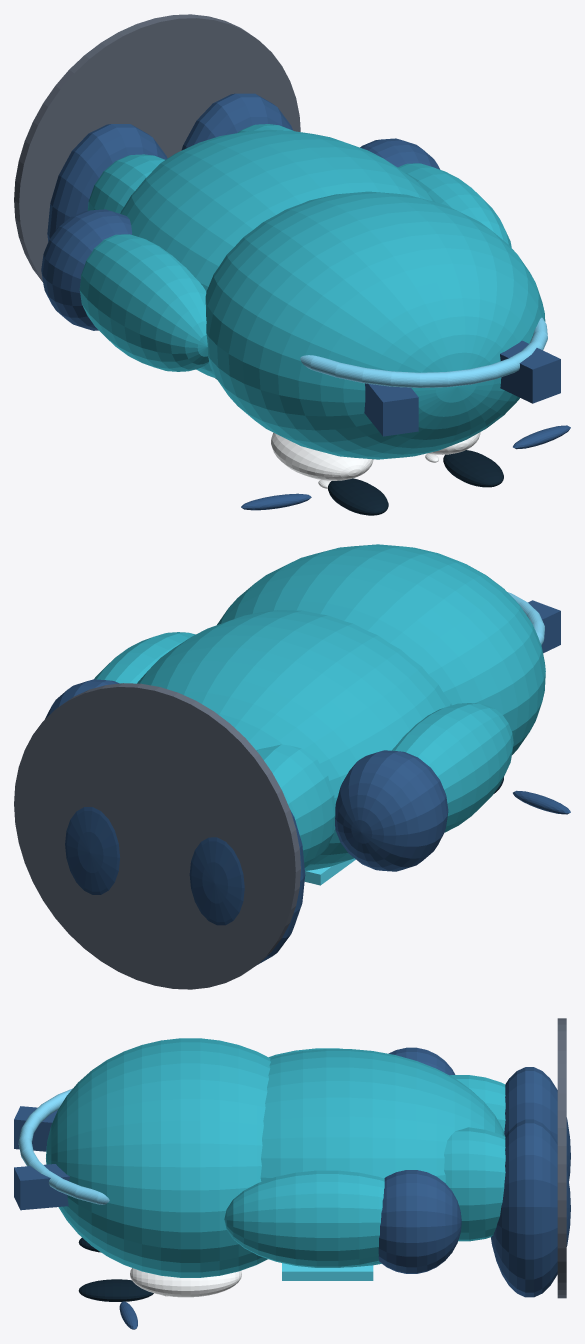
File: luma_reaction_curious.glb
3 renders of one model, top to bottom at view 1: azimuth 30°, elevation 25°; view 2: azimuth 150°, elevation 25°; view 3: azimuth 270°, elevation 25°, orthographic. The views are drawn at different scales.
Parts seen in each view (by area): view 1: CHR_Head, CHR_DisplayBase, CHR_Torso, CHR_LeftArm, CHR_LeftHand, CHR_LeftFoot, CHR_StatusRing, CHR_RightFoot, CHR_RightArm, CHR_RightAntenna, CHR_LeftEyeWhite, CHR_LeftLeg (+6 smaller); view 2: CHR_DisplayBase, CHR_Torso, CHR_Head, CHR_LeftHand, CHR_LeftArm, CHR_LeftLeg, CHR_LeftFoot, CHR_RightFoot, CHR_RightArm, CHR_LeftAntenna, CHR_LeftBrow, CHR_RightHand (+1 smaller); view 3: CHR_Head, CHR_Torso, CHR_RightArm, CHR_RightFoot, CHR_RightHand, CHR_RightLeg, CHR_LeftFoot, CHR_DisplayBase, CHR_StatusRing, CHR_RightEyeWhite, CHR_RightAntenna, CHR_ChestSensor (+4 smaller).
Part boxes in pixels (bbox=[...]): CHR_Head: bbox=[205, 191, 545, 459]; CHR_DisplayBase: bbox=[14, 14, 300, 281]; CHR_Torso: bbox=[120, 130, 435, 378]; CHR_LeftArm: bbox=[79, 234, 208, 371]; CHR_LeftHand: bbox=[41, 209, 131, 330]; CHR_LeftFoot: bbox=[47, 124, 167, 241]; CHR_StatusRing: bbox=[300, 317, 547, 387]; CHR_RightFoot: bbox=[181, 93, 292, 150]; CHR_RightArm: bbox=[398, 163, 511, 247]; CHR_RightAntenna: bbox=[500, 340, 560, 403]; CHR_LeftEyeWhite: bbox=[271, 432, 373, 480]; CHR_LeftLeg: bbox=[87, 154, 164, 213]; CHR_DisplayBase: bbox=[14, 683, 300, 989]; CHR_Torso: bbox=[137, 610, 451, 871]; CHR_Head: bbox=[217, 544, 545, 754]; CHR_LeftHand: bbox=[335, 750, 448, 871]; CHR_LeftArm: bbox=[392, 703, 513, 832]; CHR_LeftLeg: bbox=[256, 744, 335, 867]; CHR_LeftFoot: bbox=[189, 810, 305, 964]; CHR_RightFoot: bbox=[65, 807, 120, 894]; CHR_RightArm: bbox=[94, 632, 195, 683]; CHR_LeftAntenna: bbox=[528, 600, 560, 653]; CHR_LeftBrow: bbox=[513, 790, 570, 814]; CHR_RightHand: bbox=[45, 679, 119, 718]; CHR_Head: bbox=[46, 1038, 270, 1277]; CHR_Torso: bbox=[260, 1049, 505, 1267]; CHR_RightArm: bbox=[224, 1170, 384, 1267]; CHR_RightFoot: bbox=[491, 1119, 570, 1297]; CHR_RightHand: bbox=[378, 1170, 461, 1273]; CHR_RightLeg: bbox=[444, 1127, 505, 1241]; CHR_LeftFoot: bbox=[504, 1067, 570, 1180]; CHR_DisplayBase: bbox=[557, 1018, 566, 1298]; CHR_StatusRing: bbox=[18, 1088, 109, 1204]; CHR_RightEyeWhite: bbox=[130, 1268, 241, 1297]; CHR_RightAntenna: bbox=[14, 1164, 69, 1210]; CHR_ChestSensor: bbox=[282, 1263, 373, 1280].
Bounding box in the file's own units: 2.64 × 1.9 × 3.78.
